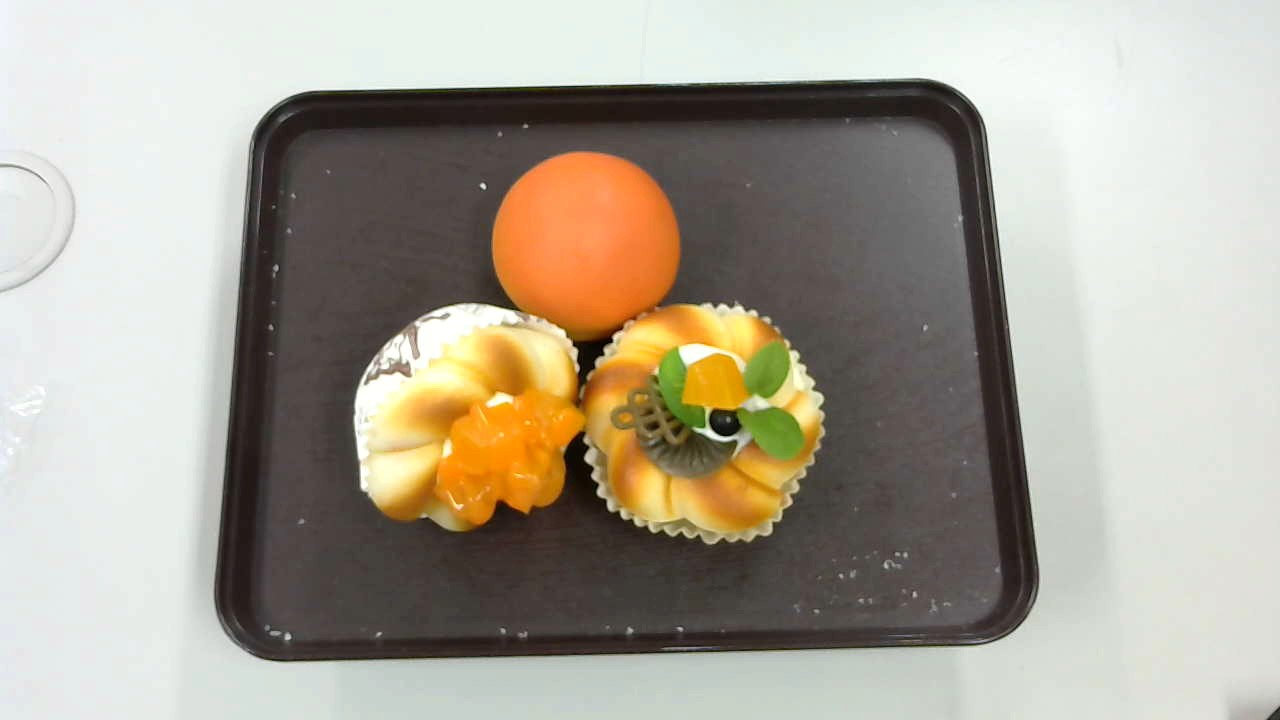bun: (490, 150, 681, 339)
fruit tart: (579, 302, 826, 545)
mango tart: (352, 301, 586, 531)
